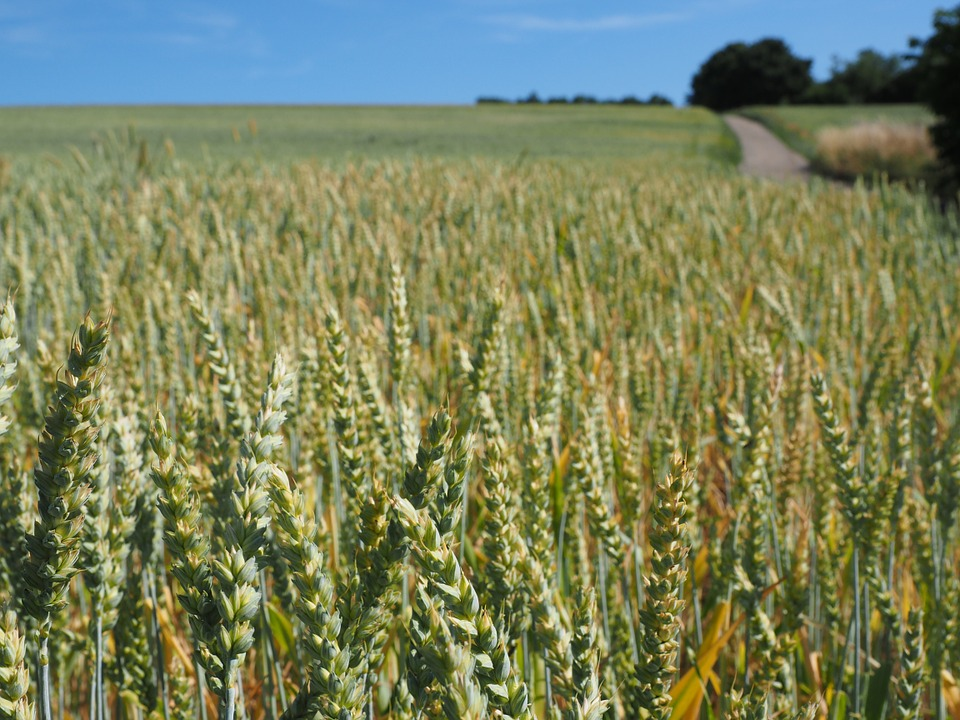Wheat: (95, 198, 720, 690)
